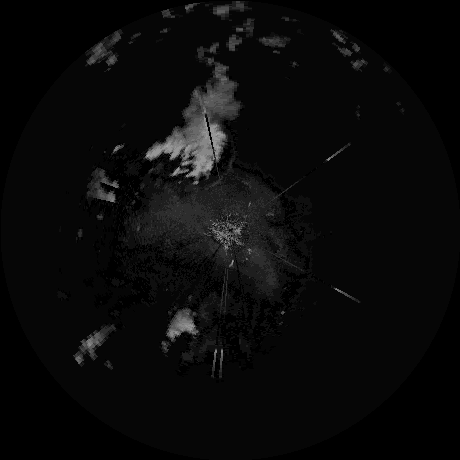frontgust: (197, 150, 235, 190)
